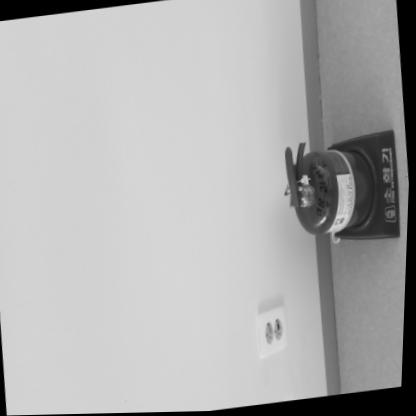FE: (278, 131, 406, 253)
